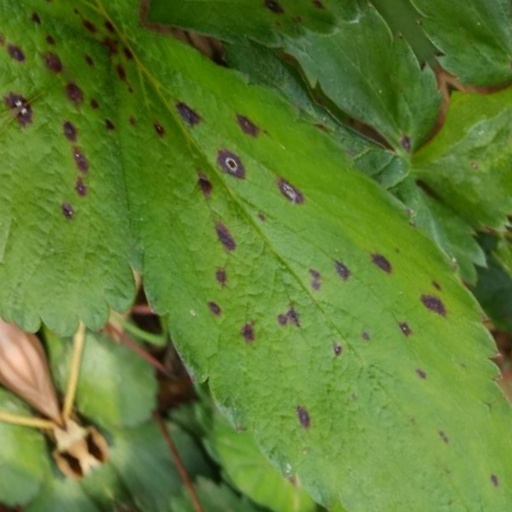Leaf Spot: (130, 0, 419, 511), (0, 282, 249, 511), (293, 237, 436, 510), (299, 389, 511, 511), (391, 249, 508, 425), (431, 134, 511, 281), (408, 0, 475, 151), (451, 0, 511, 134)
